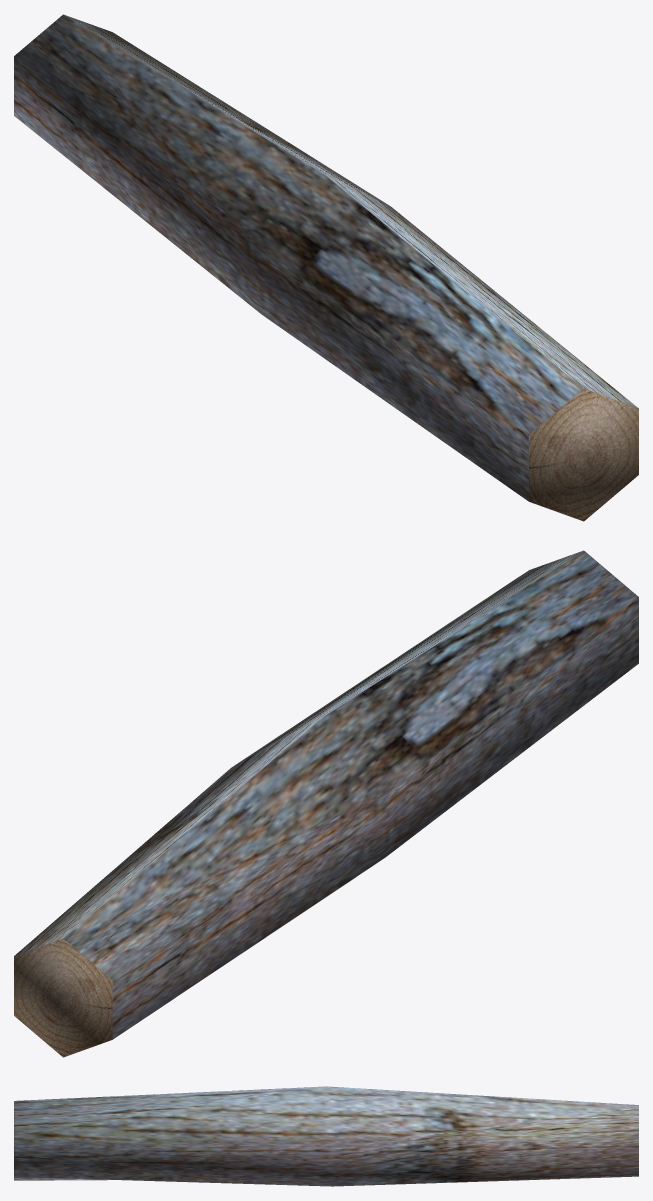
The model's file is Tree_trunk_2.fbx.
3 renders of one model, top to bottom at view 1: azimuth 30°, elevation 25°; view 2: azimuth 150°, elevation 25°; view 3: azimuth 270°, elevation 25°, orthographic. The views are drawn at different scales.
Parts seen in each view (by area): view 1: Tree_trunk_2; view 2: Tree_trunk_2; view 3: Tree_trunk_2.
Boxes of the visible parts, left/top/right/bottom form: Tree_trunk_2: left=14, top=14, right=638, bottom=521; Tree_trunk_2: left=14, top=550, right=638, bottom=1057; Tree_trunk_2: left=14, top=1086, right=638, bottom=1186.
Size of the model in its own units: 1.6 by 1.67 by 10.
